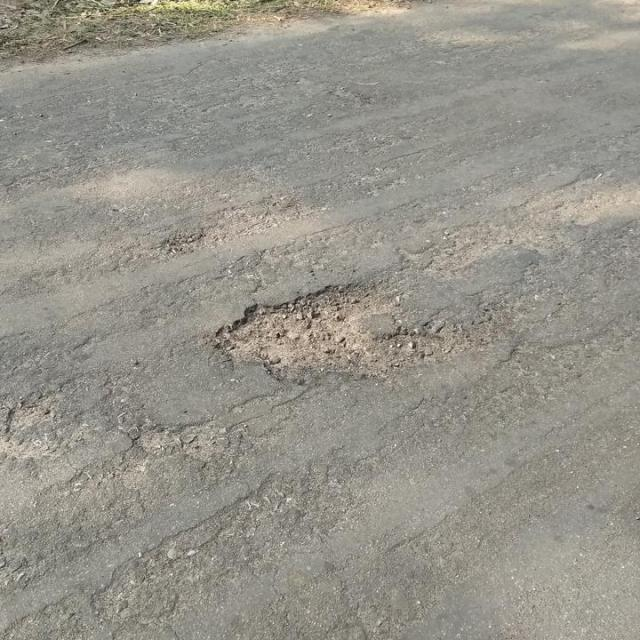pothole: (214, 276, 460, 386)
